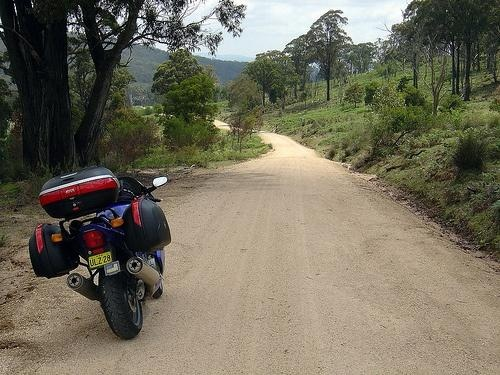motorbike: (29, 167, 188, 340)
